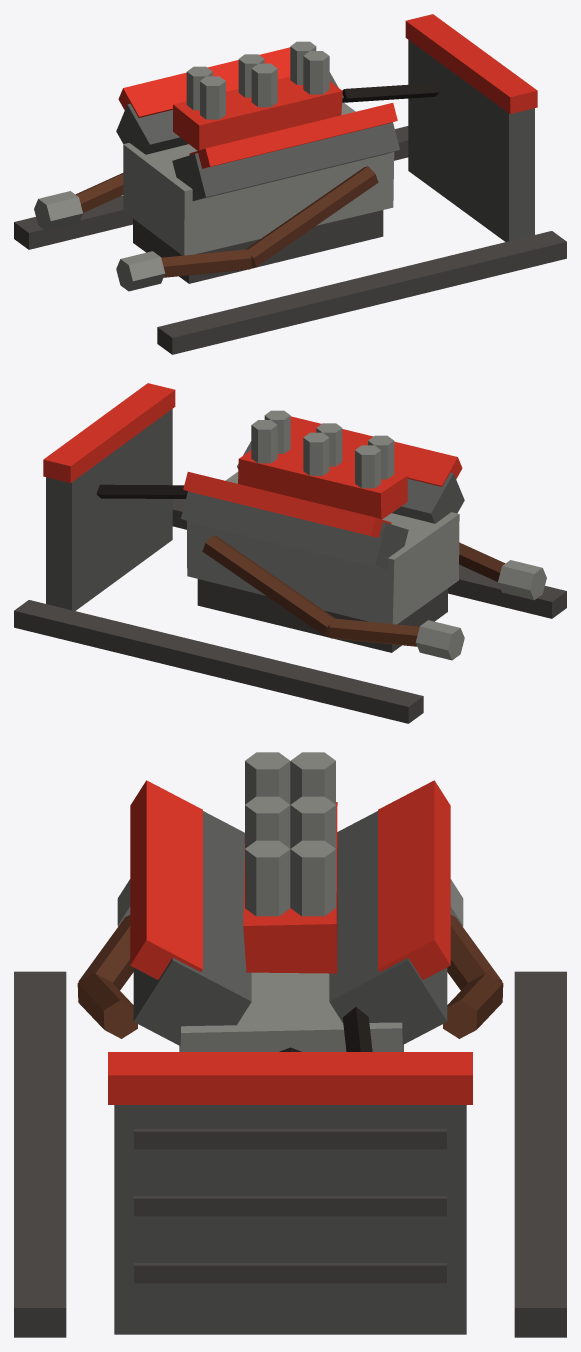
The model's file is eng_racing_v6.glb.
The picture shows the model from 3 angles, top to bottom: view 1: azimuth 30°, elevation 25°; view 2: azimuth 150°, elevation 25°; view 3: azimuth 270°, elevation 25°; orthographic projection. The views are drawn at different scales.
Visible parts, largest first — view 1: eng_racing_v6; view 2: eng_racing_v6; view 3: eng_racing_v6.
Boxes of the visible parts, box(x1,y1,x2,y2) form: eng_racing_v6: box(14, 14, 566, 354); eng_racing_v6: box(14, 383, 566, 723); eng_racing_v6: box(14, 752, 566, 1337).
Size of the model in its own units: 1.25 by 0.57 by 0.848.
